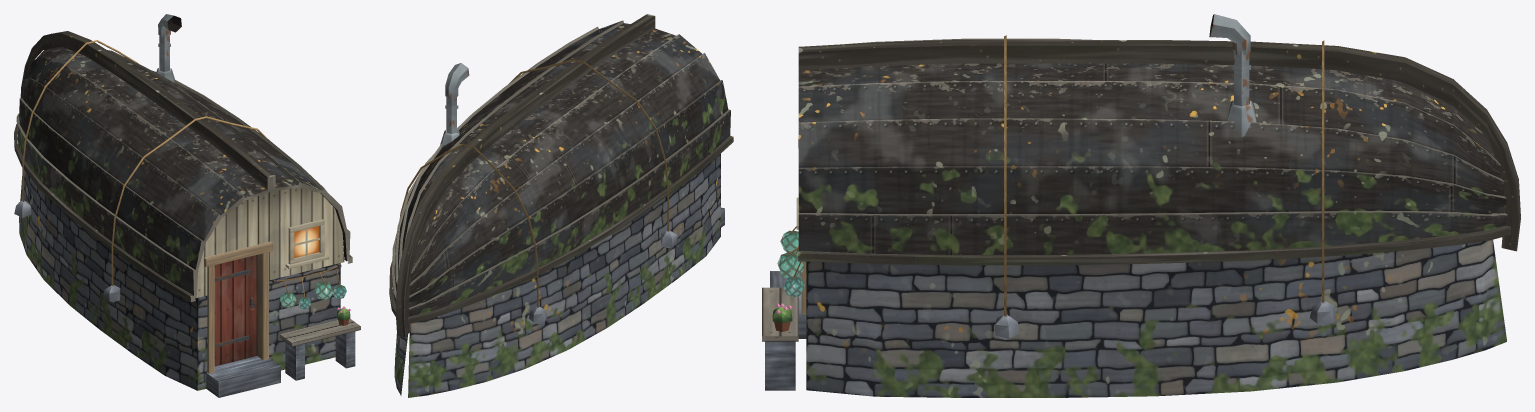
The model's file is whaleboat-house.glb.
3 views of the same model, side by side, from view 1: azimuth 30°, elevation 25°; view 2: azimuth 150°, elevation 25°; view 3: azimuth 270°, elevation 25° (orthographic). The views are drawn at different scales.
Parts seen in each view (by area): view 1: whaleboat-house; view 2: whaleboat-house; view 3: whaleboat-house.
Boxes of the visible parts, <box> form: whaleboat-house: <box>14,14,360,397</box>; whaleboat-house: <box>389,14,733,397</box>; whaleboat-house: <box>762,14,1520,397</box>.
Size of the model in its own units: 3.34 by 4.09 by 7.88.
2 materials, 2 textured.
